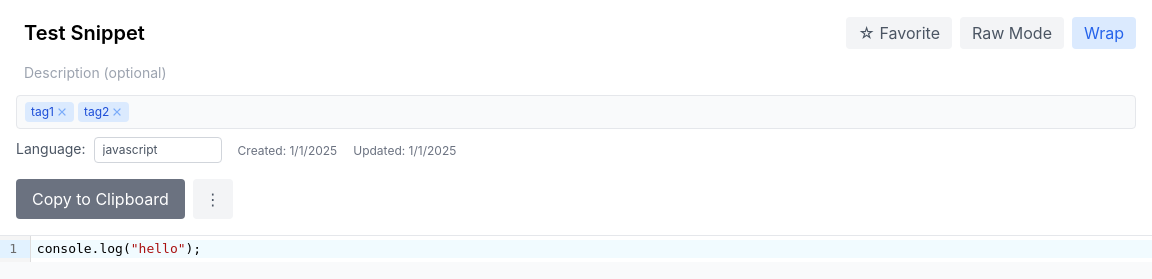
Test: SnippetEditor › favorite 즉시 저장 › favorite 토글 시 즉시 저장된다
Click the button "☆ Favorite" at (899, 33), box [846,17,952,49]
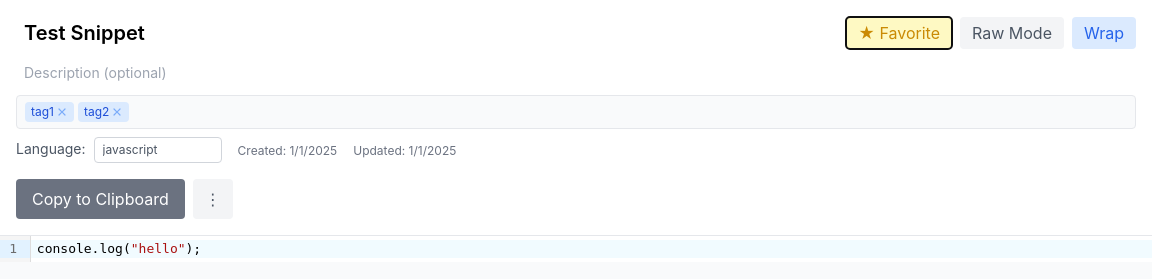
Now the button "★ Favorite" is shown, box [846,17,952,49]
